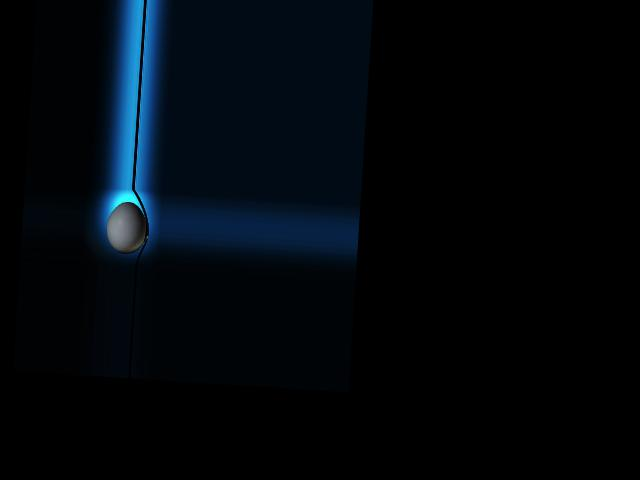egg: (105, 201, 148, 255)
